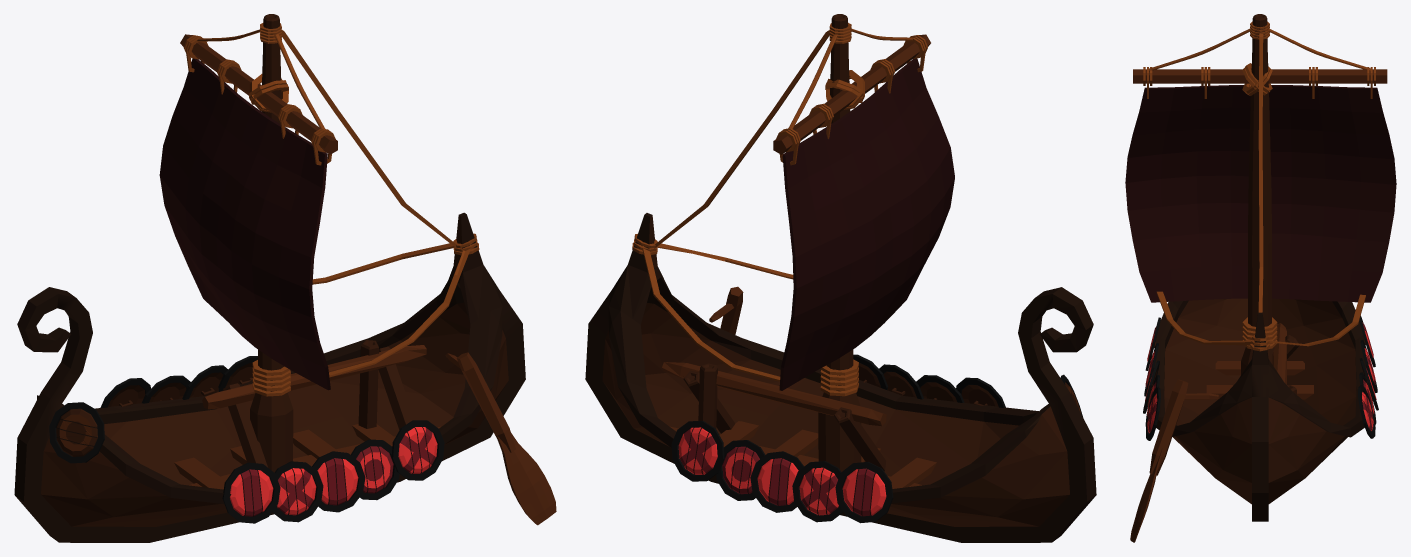
File: Destructed_Boat.fbx
The picture shows the model from 3 angles, left to right: view 1: azimuth 30°, elevation 25°; view 2: azimuth 150°, elevation 25°; view 3: azimuth 270°, elevation 25°; orthographic projection. The views are drawn at different scales.
Parts seen in each view (by area): view 1: D_Knarr_Red, D_Knarr__Sail_Red, Querbalken, D_Knarr_B_Oar.002, Mast, Seile, Schild_10, Schild_6, Schild_9, Schild_8, Schild_7, Schild_5 (+3 smaller); view 2: D_Knarr_Red, D_Knarr__Sail_Red, Querbalken, Seile, Mast, Schild_5, Schild_1, Schild_4, Schild_3, Schild_2, Schild_10, Schild_9 (+3 smaller); view 3: D_Knarr__Sail_Red, D_Knarr_Red, Mast, Querbalken, Seile, D_Knarr_B_Oar.002, Schild_1, Schild_6.
Part boxes in pixels (x1,y1,x2,y2): D_Knarr_Red: [14, 33, 525, 542]; D_Knarr__Sail_Red: [159, 58, 330, 390]; Querbalken: [180, 23, 337, 165]; D_Knarr_B_Oar.002: [445, 352, 556, 525]; Mast: [250, 14, 293, 472]; Seile: [281, 30, 470, 377]; Schild_10: [222, 462, 280, 523]; Schild_6: [391, 420, 444, 480]; Schild_9: [272, 461, 323, 522]; Schild_8: [312, 451, 365, 512]; Schild_7: [350, 439, 399, 500]; Schild_5: [100, 378, 150, 407]; D_Knarr_Red: [585, 29, 1096, 542]; D_Knarr__Sail_Red: [779, 58, 954, 390]; Querbalken: [773, 22, 930, 165]; Seile: [642, 30, 829, 381]; Mast: [818, 14, 861, 471]; Schild_5: [835, 461, 893, 523]; Schild_1: [671, 421, 724, 481]; Schild_4: [792, 461, 843, 522]; Schild_3: [750, 451, 803, 512]; Schild_2: [716, 440, 765, 500]; Schild_10: [956, 377, 1005, 407]; Schild_9: [916, 375, 964, 402]; D_Knarr__Sail_Red: [1125, 85, 1396, 302]; D_Knarr_Red: [1149, 28, 1369, 521]; Mast: [1241, 14, 1274, 374]; Querbalken: [1133, 21, 1387, 98]; Seile: [1156, 33, 1365, 346]; D_Knarr_B_Oar.002: [1130, 379, 1218, 542]; Schild_1: [1358, 385, 1375, 438]; Schild_6: [1146, 386, 1160, 440].
Size of the model in its own units: 703 by 671 by 374.
